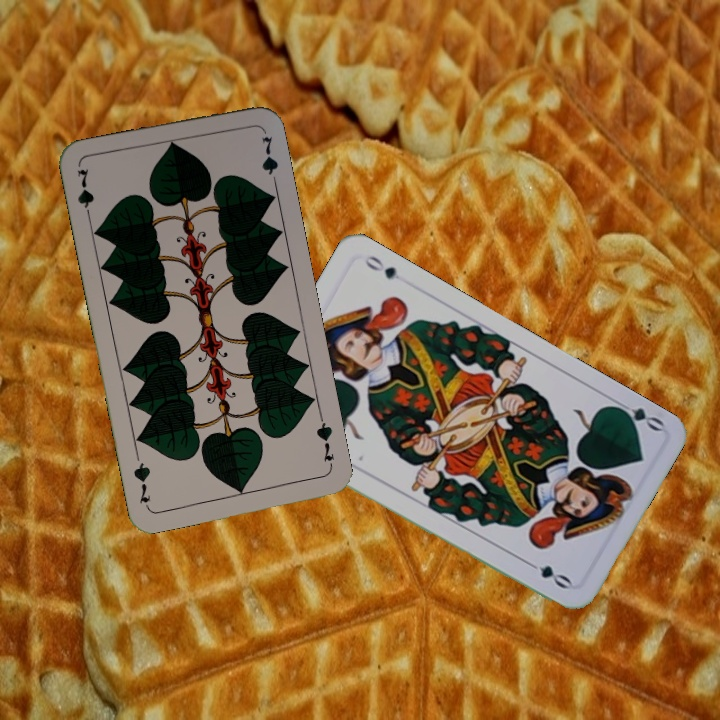G7: (312, 412, 337, 471), (73, 164, 97, 224)
GO: (608, 395, 666, 434)
